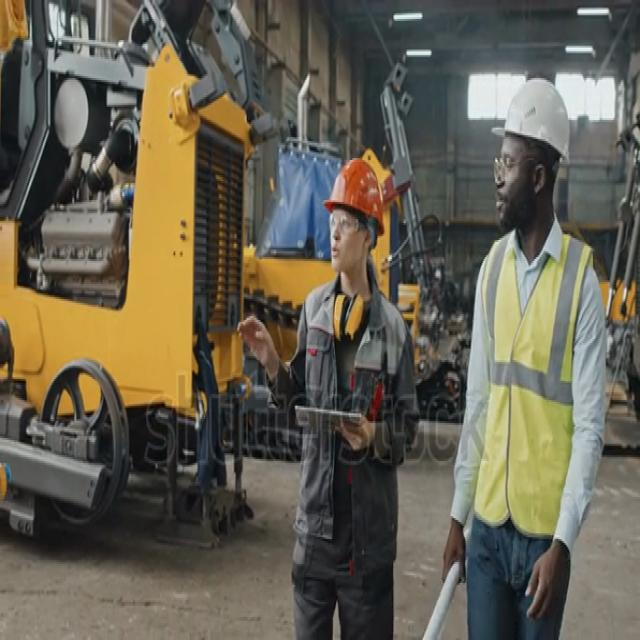Ear-Protection: (329, 288, 366, 344)
Glasses: (489, 147, 530, 182), (323, 208, 367, 234)
Helmet: (494, 73, 574, 155), (321, 152, 388, 215)
Vest: (480, 220, 595, 547)
